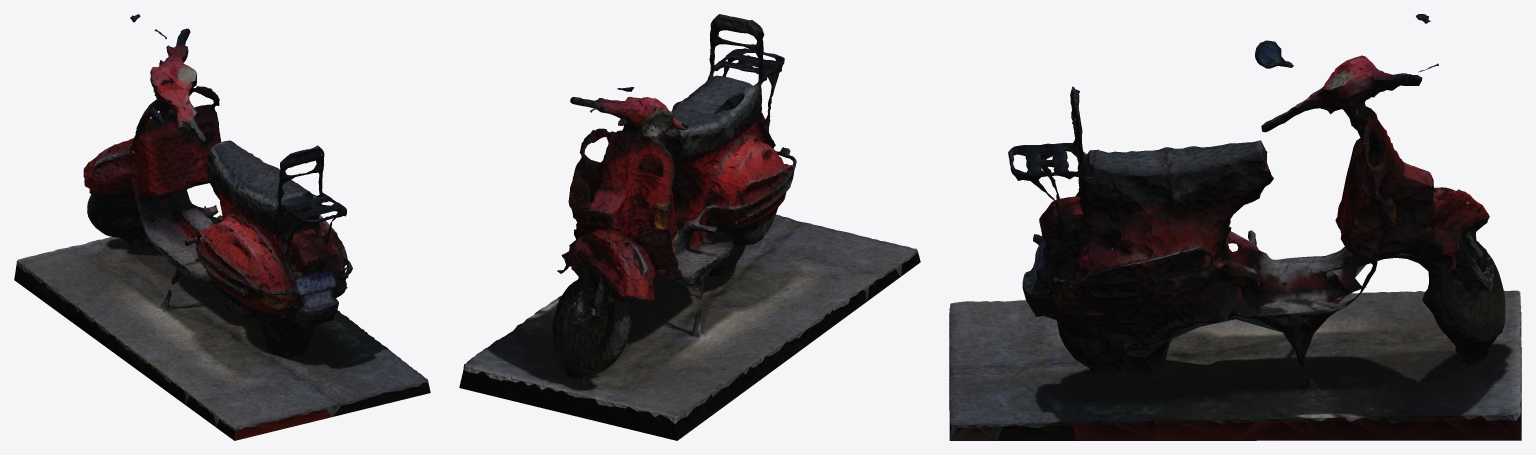
The model's file is david_bike_hall_3.glb.
3 renders of one model, left to right at view 1: azimuth 30°, elevation 25°; view 2: azimuth 150°, elevation 25°; view 3: azimuth 270°, elevation 25°, orthographic. The views are drawn at different scales.
Size of the model in its own units: 0.9256 by 1.22 by 1.79.
Materials: 1 (1 with a texture image).
